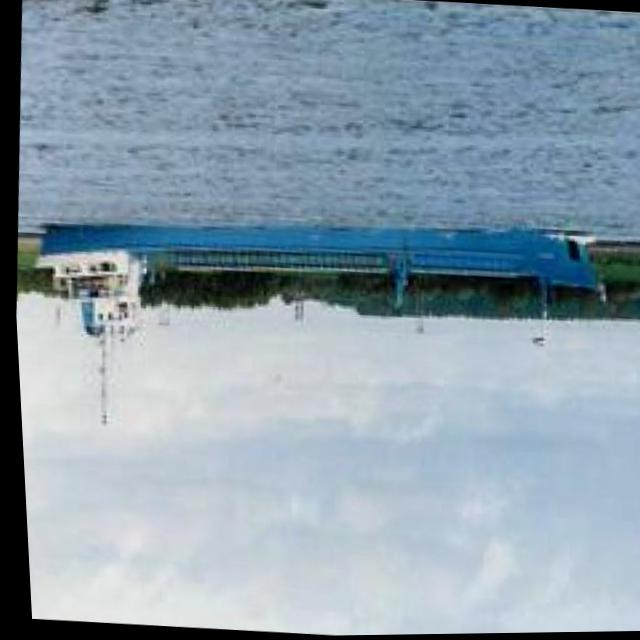ship2: (31, 223, 593, 426)
